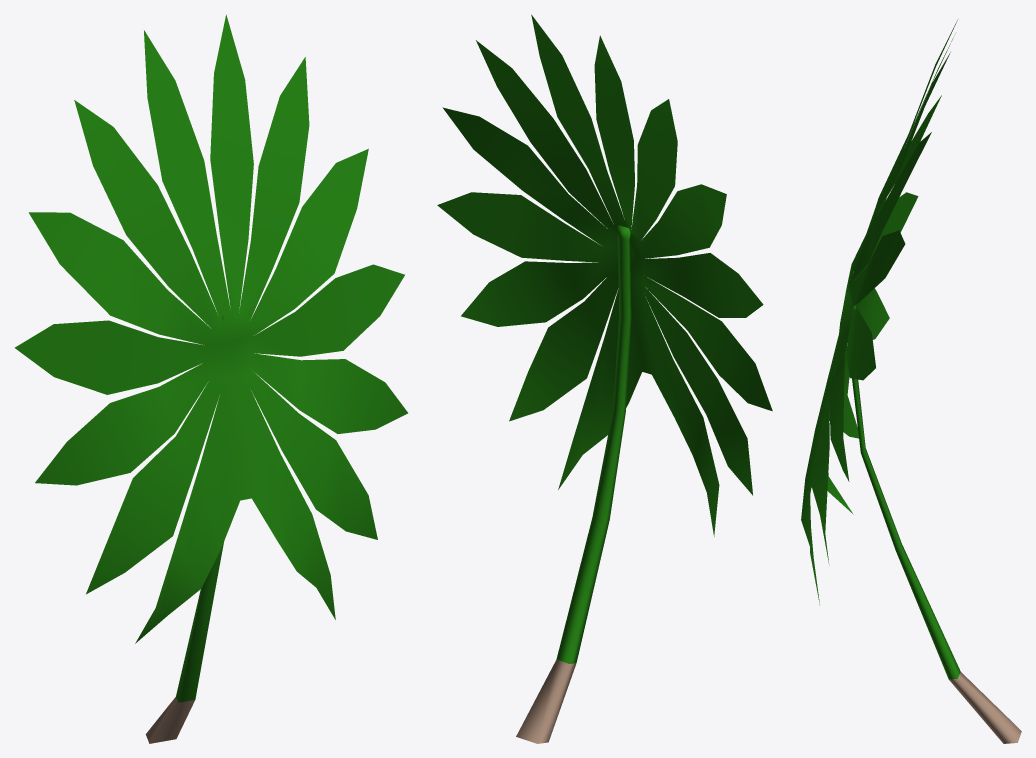
File: Palm_01_leaf.fbx
3 renders of one model, left to right at view 1: azimuth 30°, elevation 25°; view 2: azimuth 150°, elevation 25°; view 3: azimuth 270°, elevation 25°, orthographic. The views are drawn at different scales.
Visible parts, largest first — view 1: Palm_01_leaf; view 2: Palm_01_leaf; view 3: Palm_01_leaf.
Boxes of the visible parts, x1=… form: Palm_01_leaf: x1=14, y1=14, x2=407, y2=743; Palm_01_leaf: x1=437, y1=14, x2=772, y2=743; Palm_01_leaf: x1=801, y1=20, x2=1021, y2=743.
Size of the model in its own units: 1.58 by 3.03 by 0.8599.
